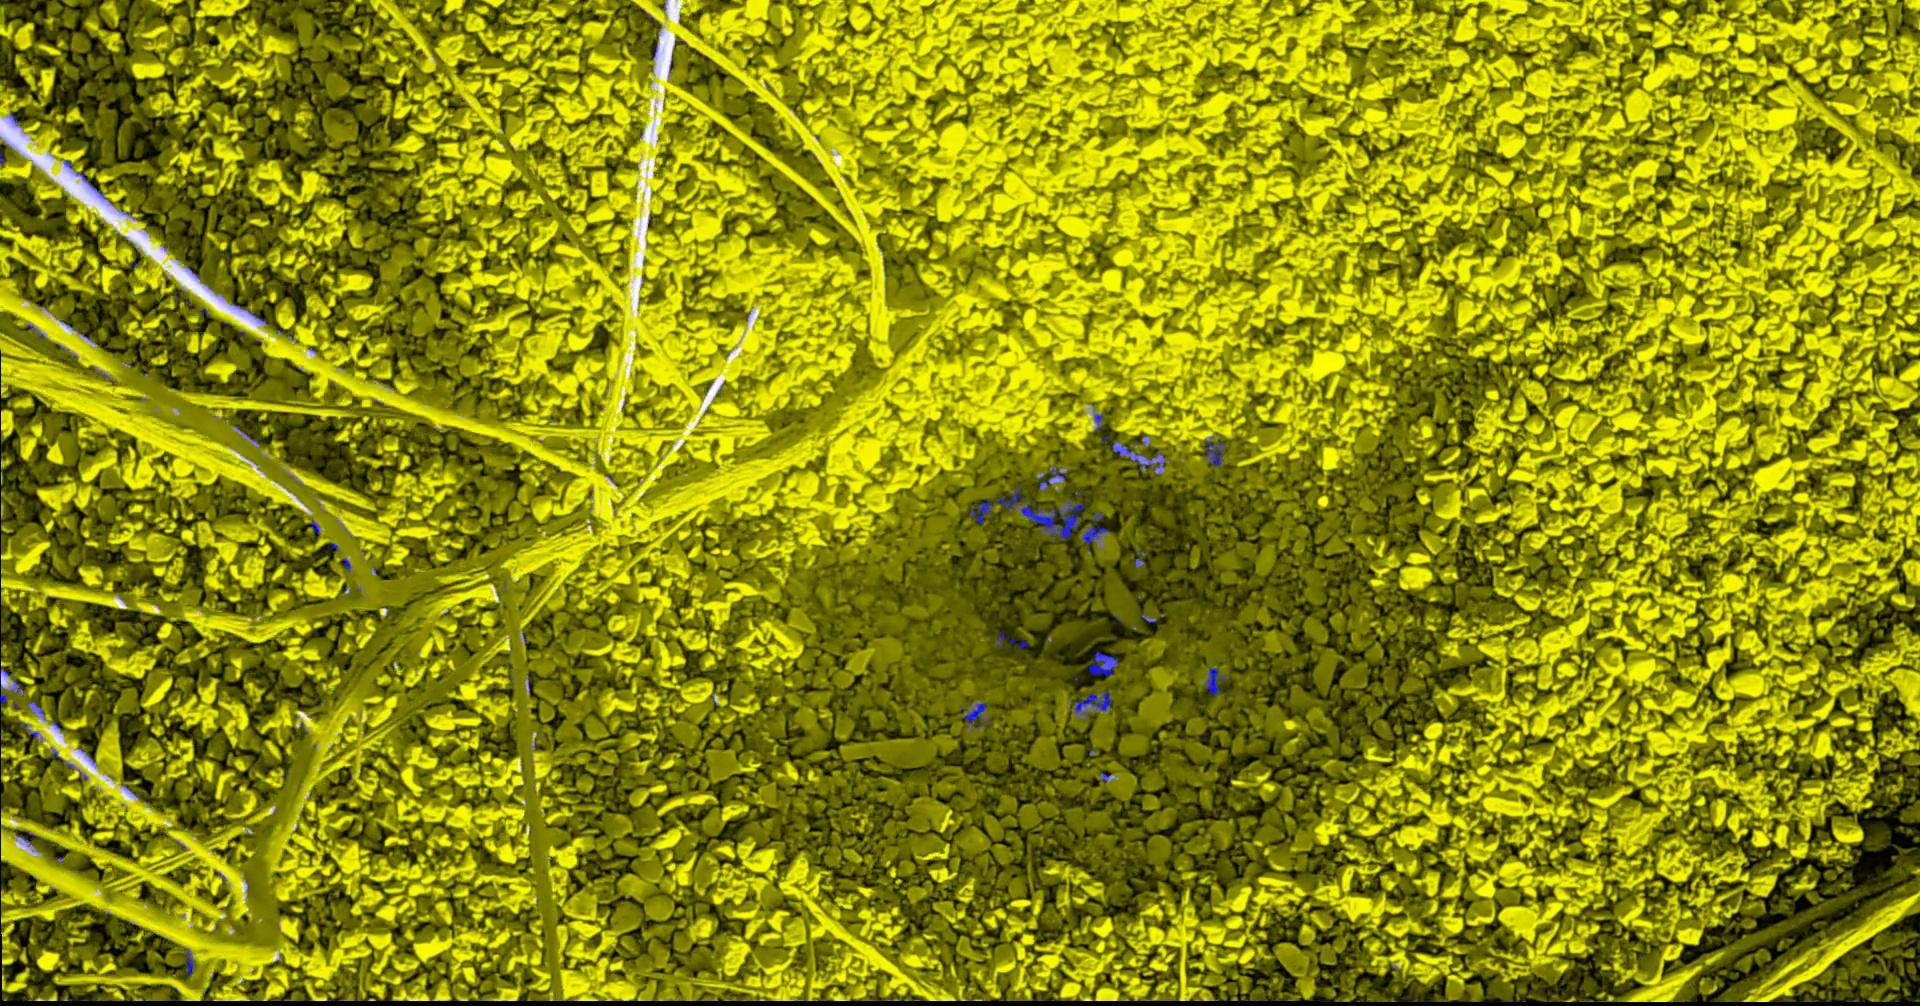ant: (1112, 441, 1166, 471), (1070, 691, 1112, 719), (1082, 511, 1111, 542), (1090, 650, 1120, 676), (1205, 666, 1230, 696), (1205, 436, 1227, 467), (1040, 465, 1067, 489), (963, 702, 989, 727), (1, 668, 10, 706), (185, 948, 196, 976), (1010, 636, 1029, 648), (1095, 413, 1105, 431), (1137, 551, 1145, 567)
